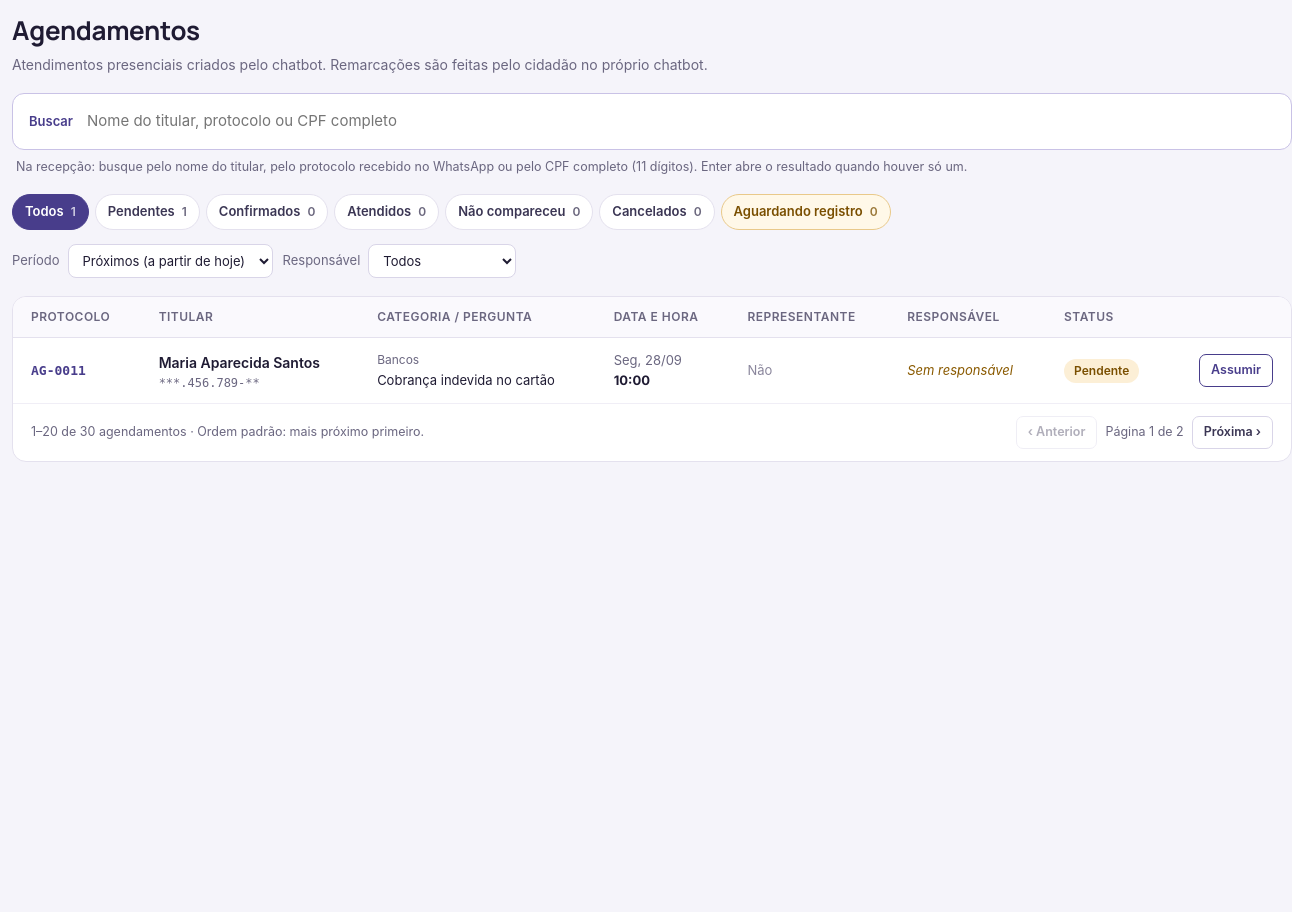
Scenario: Appointments.page: Assumir › avisa e rebusca a página atual quando o Assumir termina depois da troca de página
Expected: the text "Maria Aparecida Santos" is shown, [159,352,341,372]
Click the button "Assumir". click: (1236, 370)
box: [1199,354,1273,387]
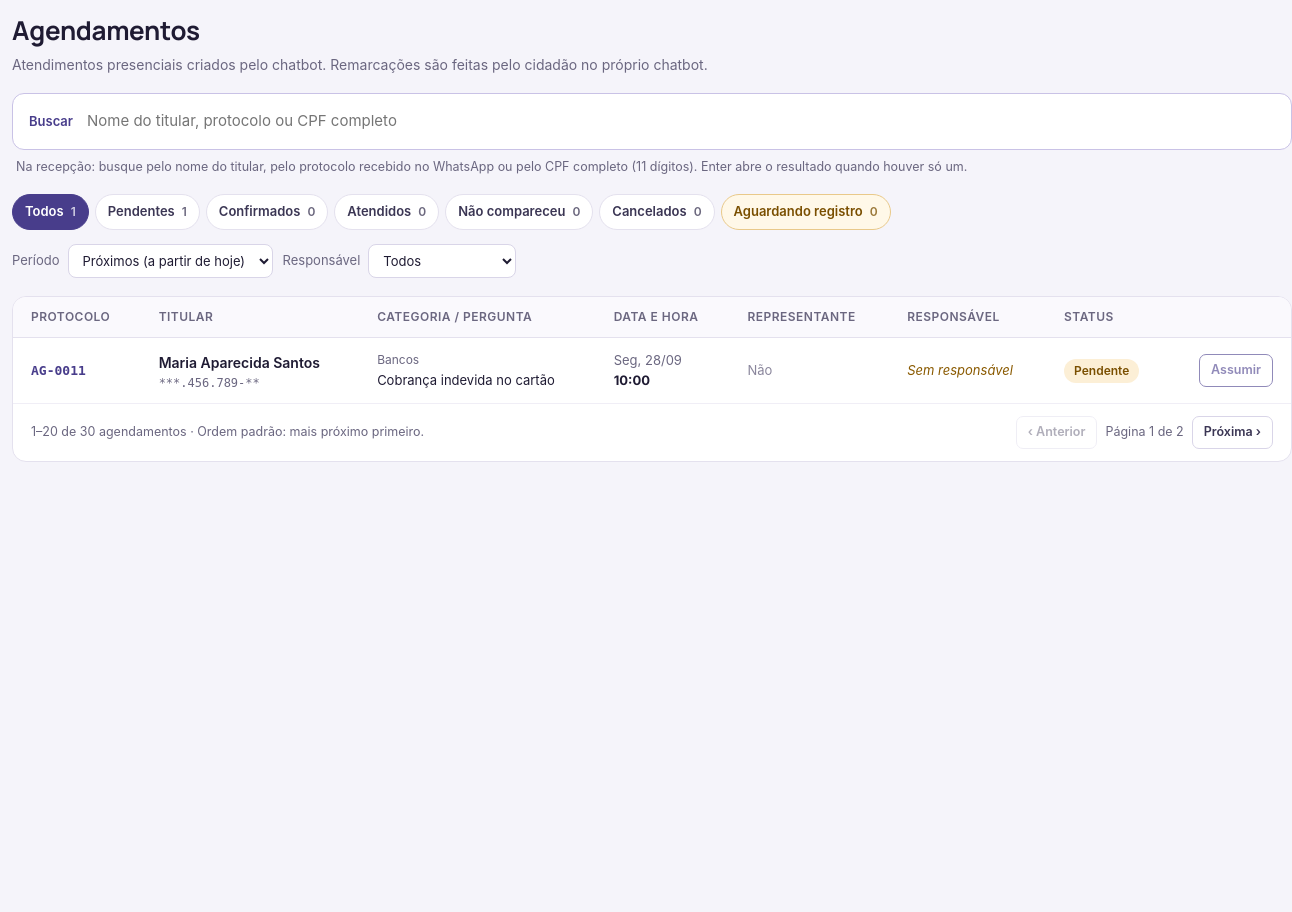
Click the button "Próxima ›". click: (1232, 433)
box: [1192,416,1273,449]
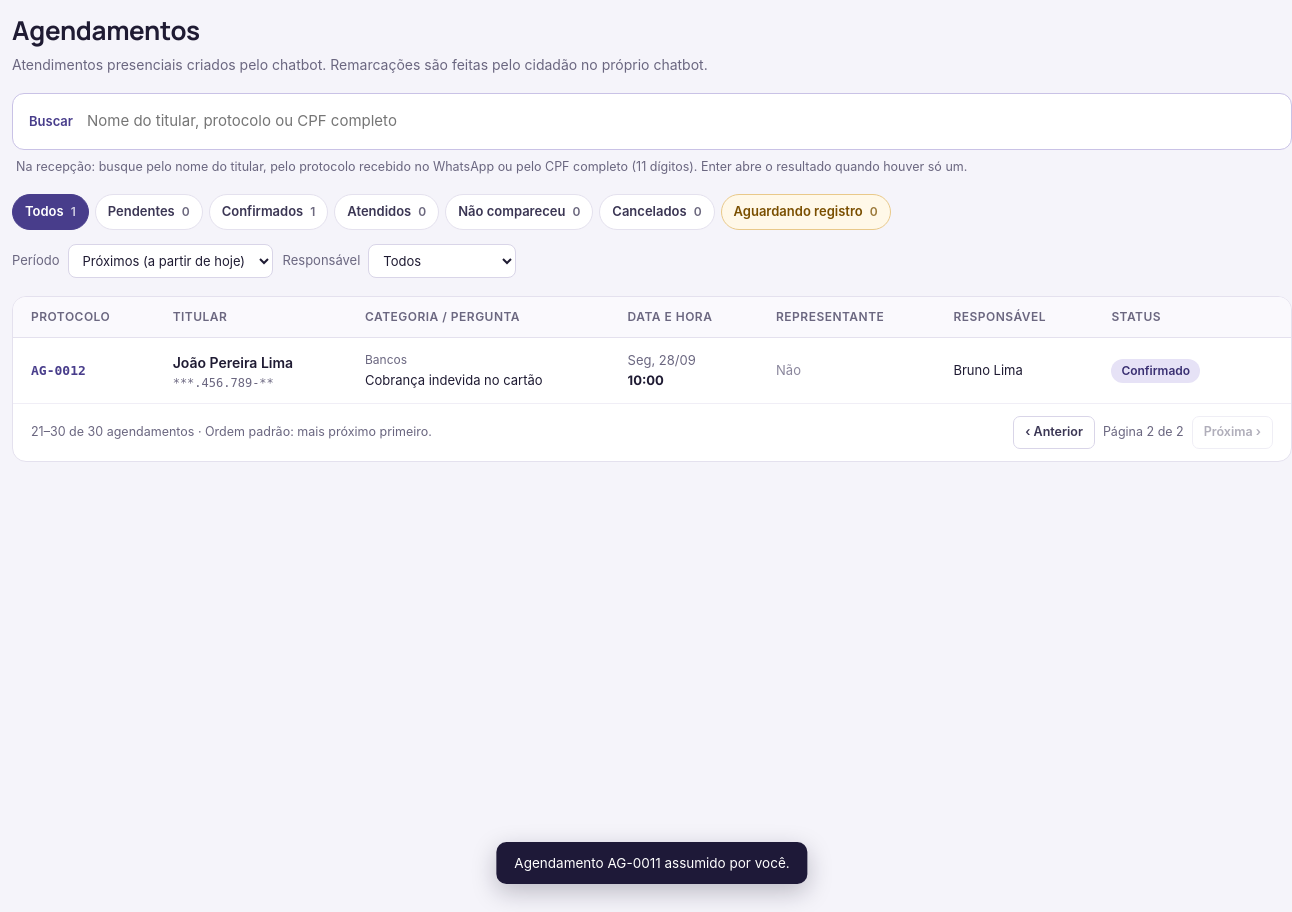
Now the text "João Pereira Lima" is shown, box [173,354,293,370]
Now the text "Agendamento AG-0011 assumido por você." is shown, box [496,842,808,884]
